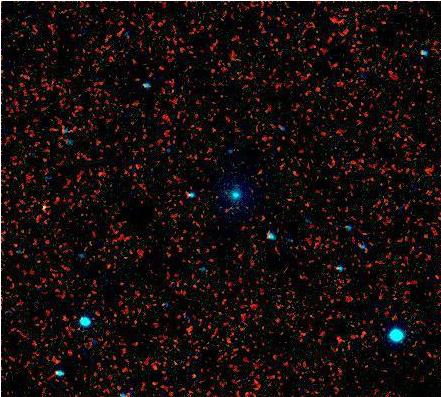star: (29, 191, 59, 221)
